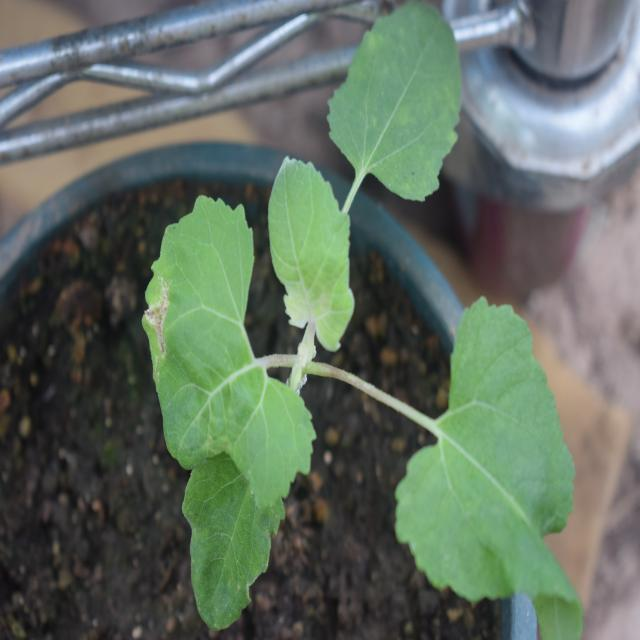cocklebur: (149, 39, 554, 577)
